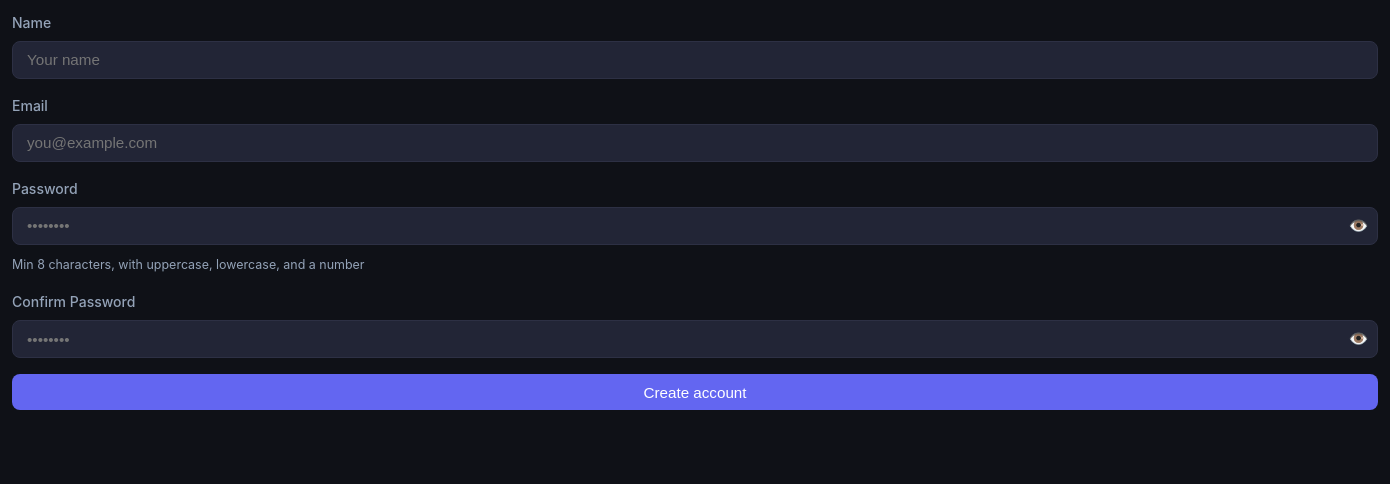
it: SignupForm › duplicate email error is displayed
Type "Dave" into the field labelled "Name" at (695, 60), box [12,41,1378,79]
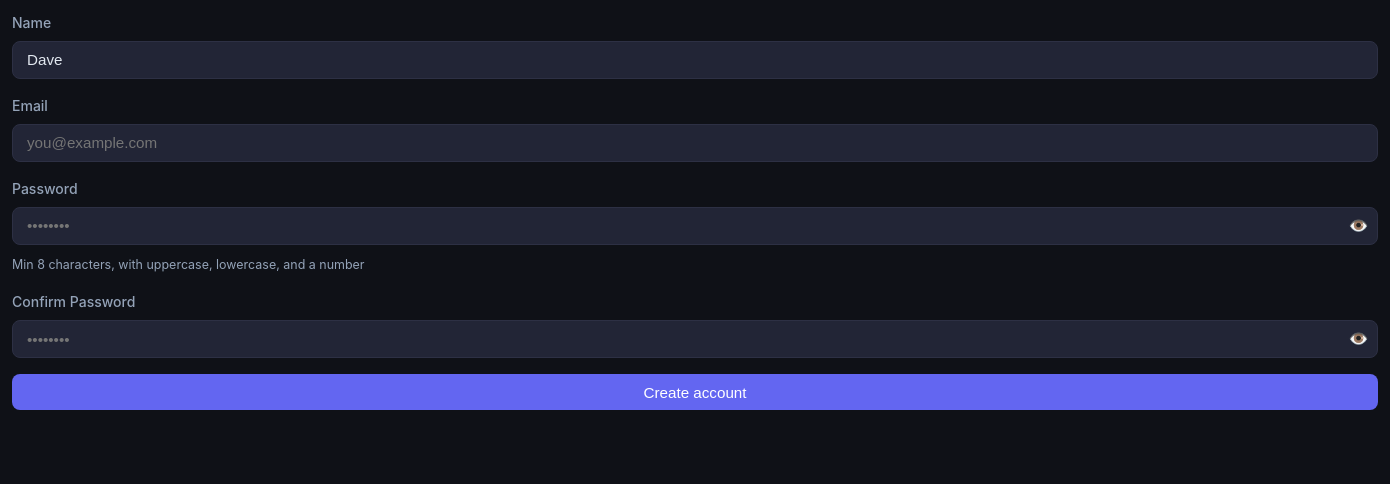
Type "existing@example.com" into the field labelled "Email" at (695, 143), box [12,124,1378,162]
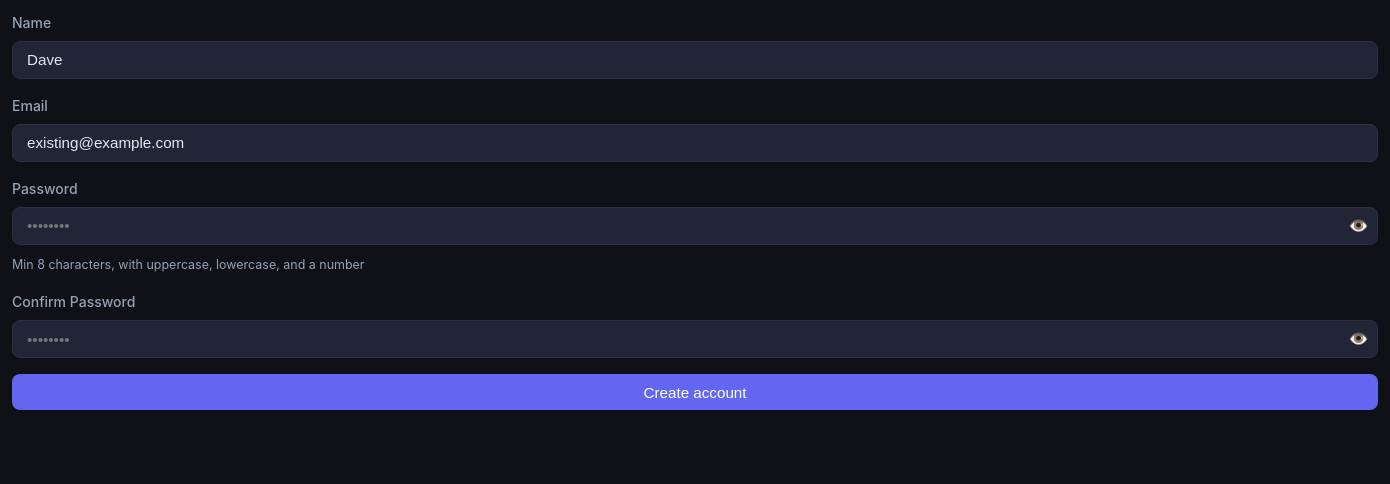
Type "password123" into the password field labelled "Password" at (695, 226), box [12,207,1378,245]
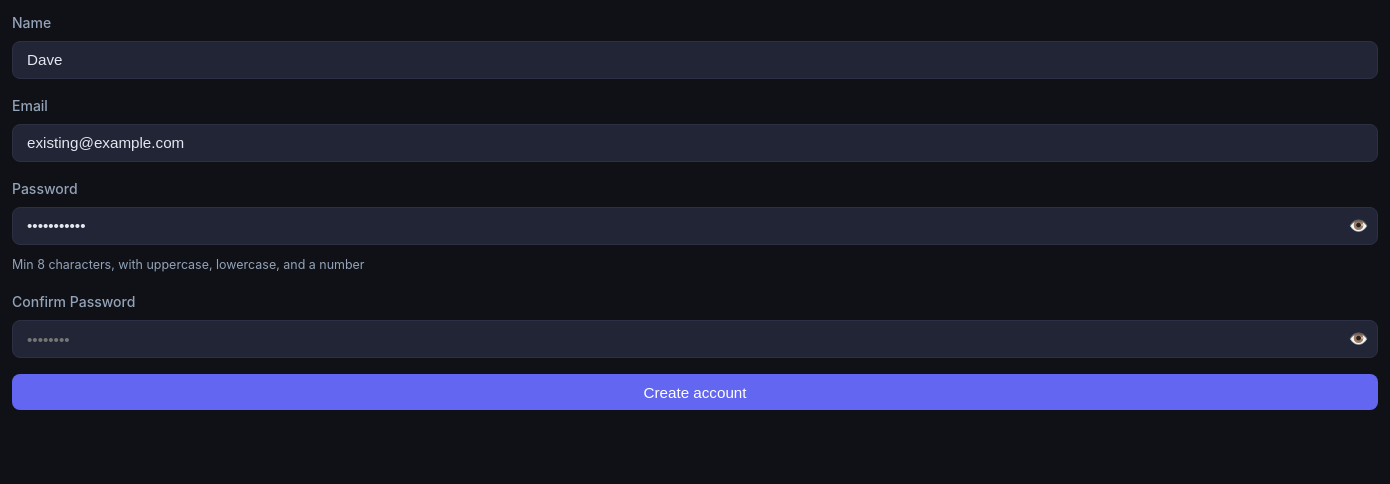
Type "password123" into the password field labelled "Confirm Password" at (695, 339), box [12,320,1378,358]
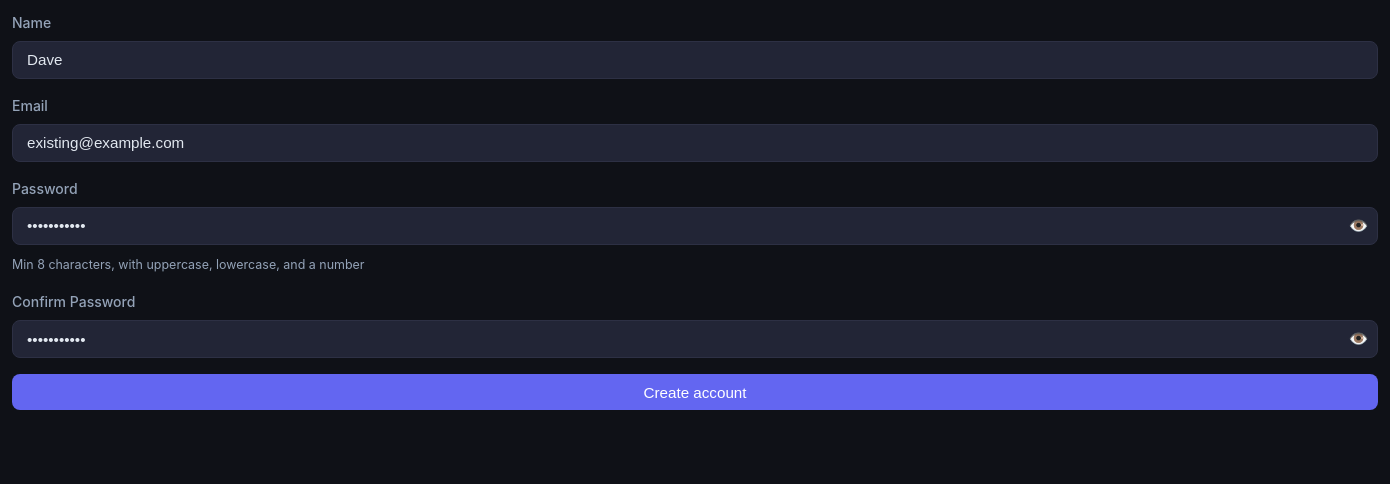
Click the button "Create account" at (695, 392), box [12,374,1378,410]
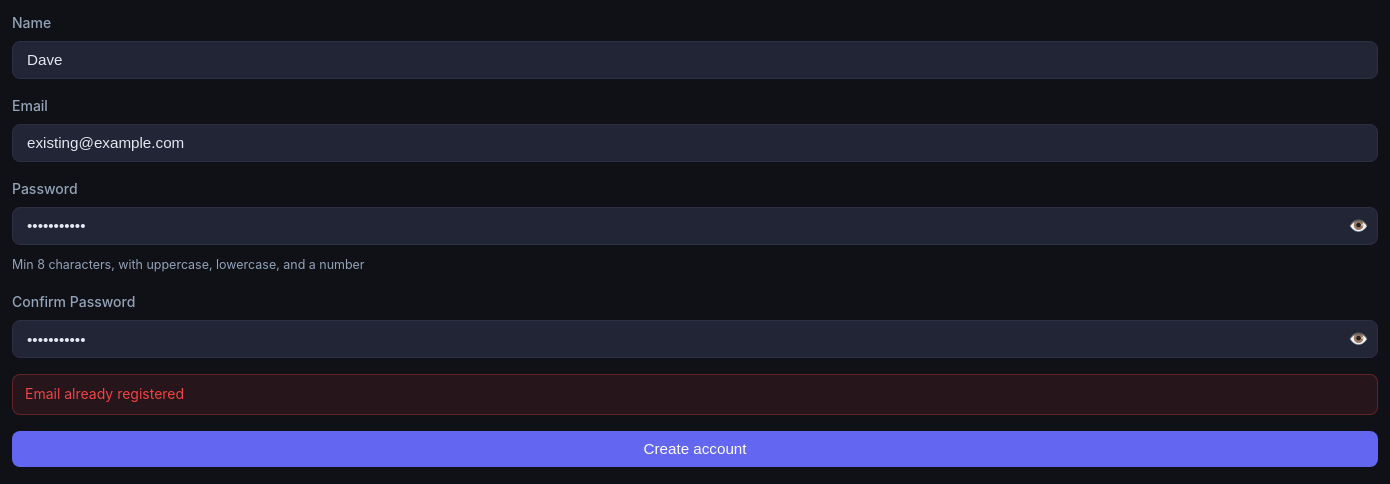
Expected: the text "Email already registered" is shown, [12,374,1378,415]
